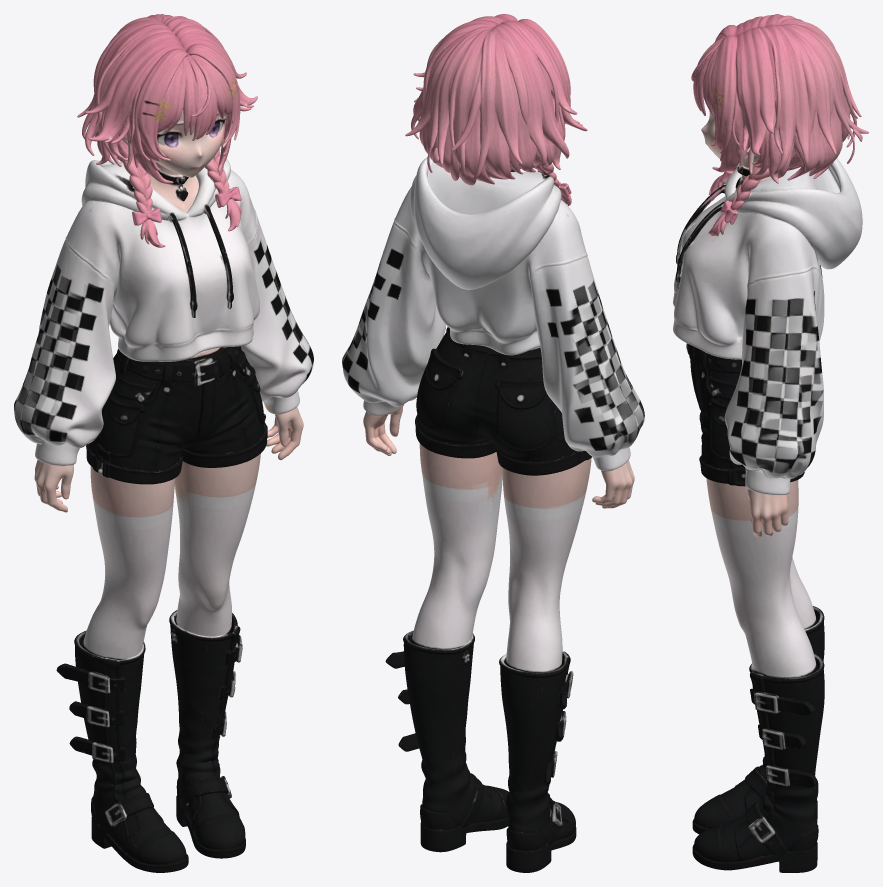
The picture shows the model from 3 angles, left to right: view 1: azimuth 30°, elevation 25°; view 2: azimuth 150°, elevation 25°; view 3: azimuth 270°, elevation 25°; orthographic projection.
Bounding box in the file's own units: 0.6998 × 1.9 × 0.4111.
1 material, 1 textured.
